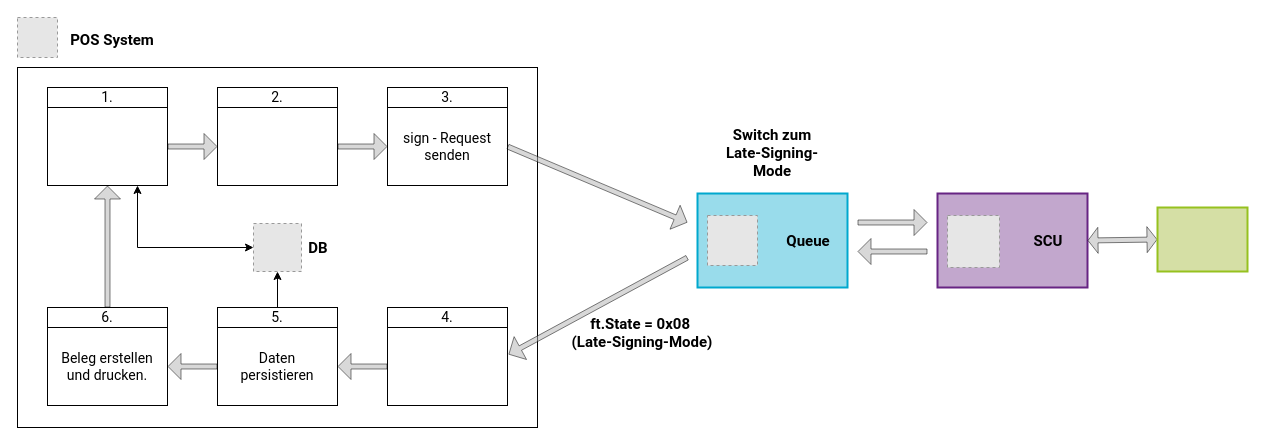
Image size: 1266x445. Some labels were removed from this diagram. Grey dashed boxes stand in for pictures. Each missing label, with the centre of its shape:
"Markierten Request laden" belongs at point (107, 146).
"Request flaggen (0x00000 00000010000)" belongs at point (277, 146).
"Response prozessieren" belongs at point (447, 366).
"TSE" belongs at point (1202, 239).
